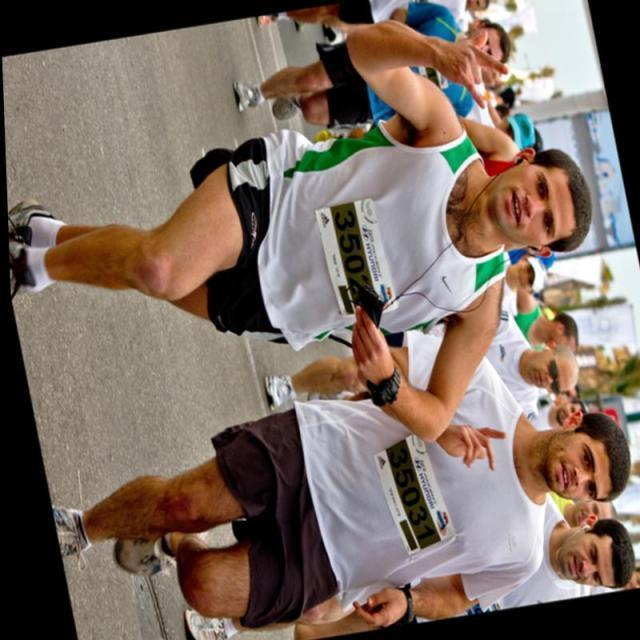dorsal: (358, 419, 460, 575), (306, 188, 403, 335)
